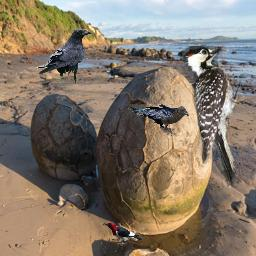Crow: (35, 29, 91, 84), (128, 104, 189, 136)
Woodpecker: (178, 44, 246, 187), (100, 221, 144, 246)
